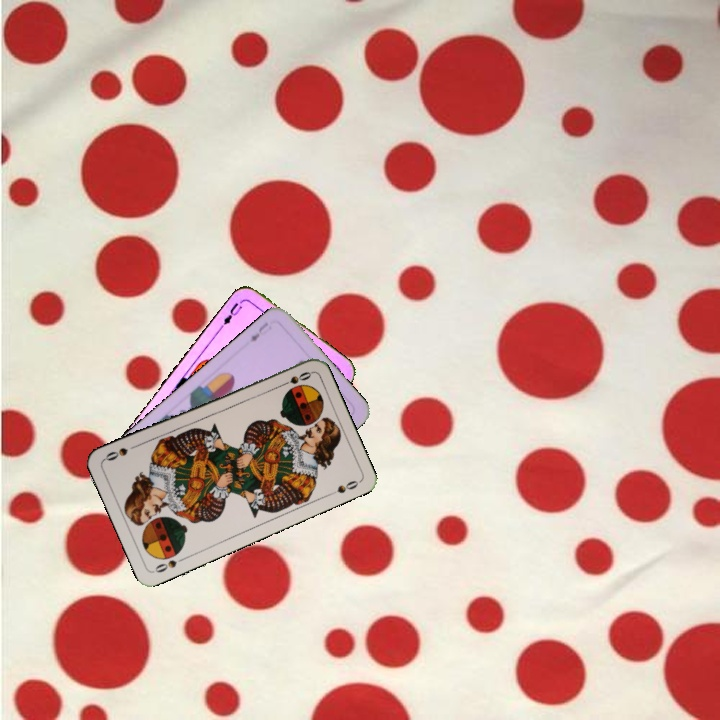EU: (217, 296, 247, 330), (245, 318, 273, 345)
SO: (275, 367, 314, 390), (151, 553, 189, 575)
